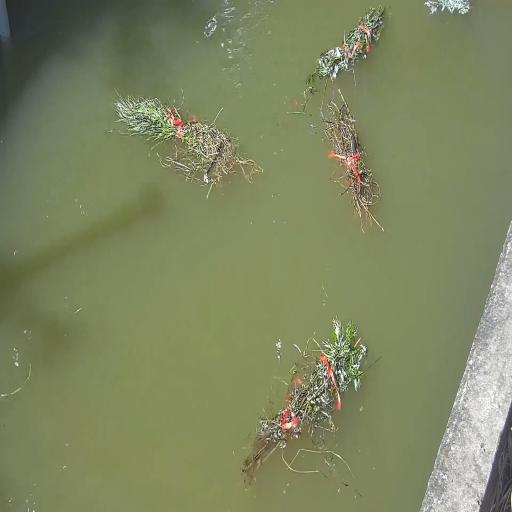twig: (239, 317, 370, 491), (112, 91, 258, 198), (320, 87, 382, 235), (305, 4, 386, 102), (318, 318, 368, 398), (424, 0, 473, 16)
